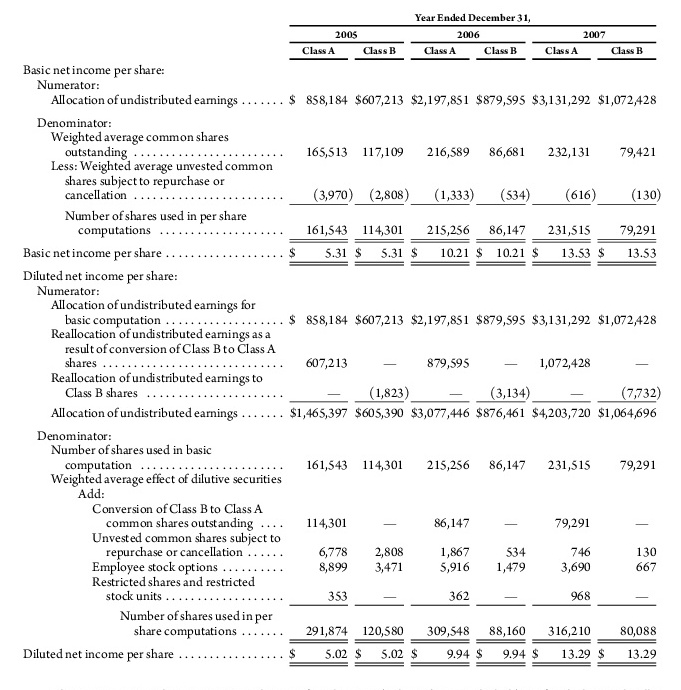table: (0, 0, 681, 690)
